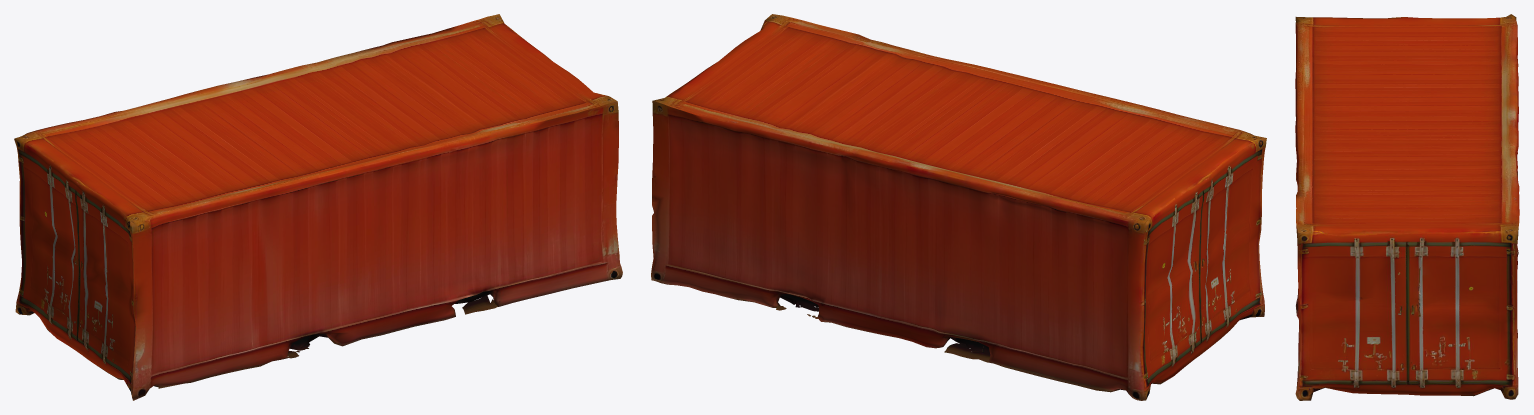
File: tripo_convert_fbeb16a2-3821-4a17-960b-a71ec21356e3.fbx
3 views of the same model, side by side, from view 1: azimuth 30°, elevation 25°; view 2: azimuth 150°, elevation 25°; view 3: azimuth 270°, elevation 25° (orthographic). The views are drawn at different scales.
Parts seen in each view (by area): view 1: tripo_node_fbeb16a2; view 2: tripo_node_fbeb16a2; view 3: tripo_node_fbeb16a2.
Boxes of the visible parts, x1,y1,x2,y2 form: tripo_node_fbeb16a2: (14,14,622,400); tripo_node_fbeb16a2: (651,14,1266,400); tripo_node_fbeb16a2: (1295,14,1519,400).
Size of the model in its own units: 0.9951 by 0.3533 by 0.4239.
